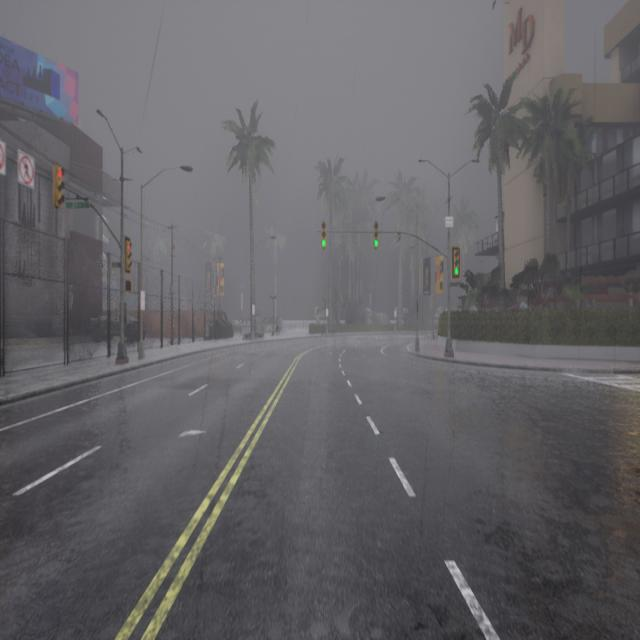6: (51, 167, 65, 182), (121, 238, 132, 251)
9: (51, 156, 63, 206), (450, 246, 462, 282), (122, 236, 132, 278), (318, 220, 329, 250), (374, 218, 380, 251)
bien_hieu_lenh: (372, 239, 382, 249), (450, 267, 460, 277), (320, 238, 328, 250)
